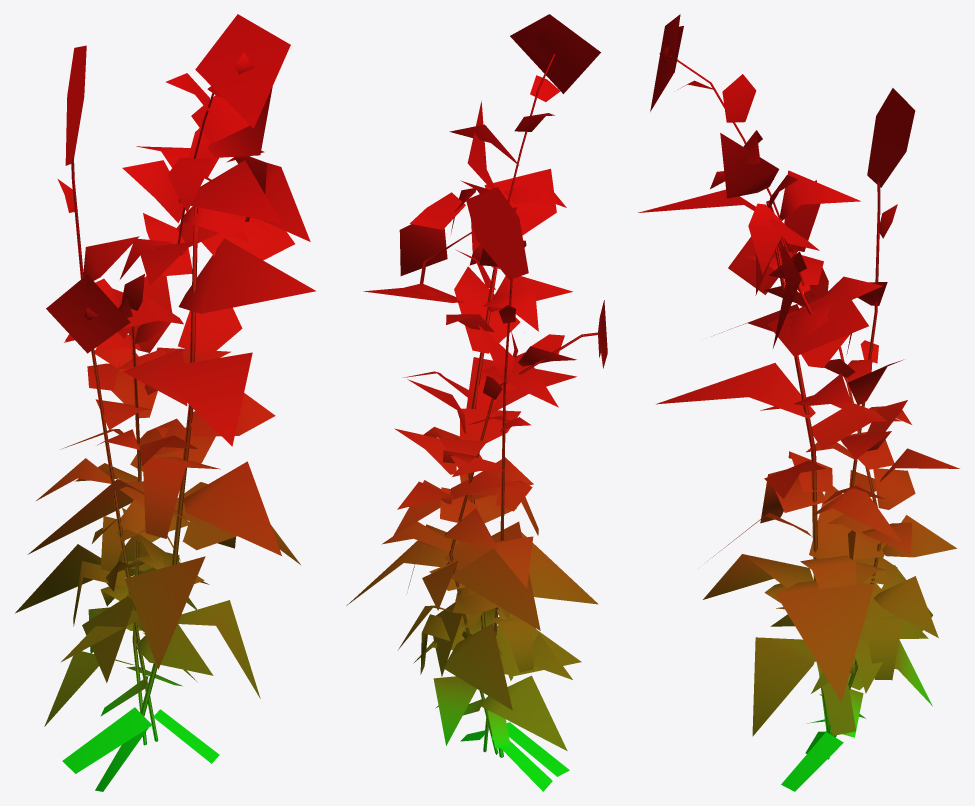
File: Crownbeard_LOD3_Var6_tefoajkr.fbx
3 renders of one model, left to right at view 1: azimuth 30°, elevation 25°; view 2: azimuth 150°, elevation 25°; view 3: azimuth 270°, elevation 25°, orthographic. The views are drawn at different scales.
Parts seen in each view (by area): view 1: _2d23_Var6_LOD3; view 2: _2d23_Var6_LOD3; view 3: _2d23_Var6_LOD3.
Part boxes in pixels (bbox=[...]): _2d23_Var6_LOD3: bbox=[15, 14, 316, 791]; _2d23_Var6_LOD3: bbox=[346, 14, 607, 791]; _2d23_Var6_LOD3: bbox=[638, 14, 959, 791].
Size of the model in its own units: 33.42 by 93.78 by 35.46.
